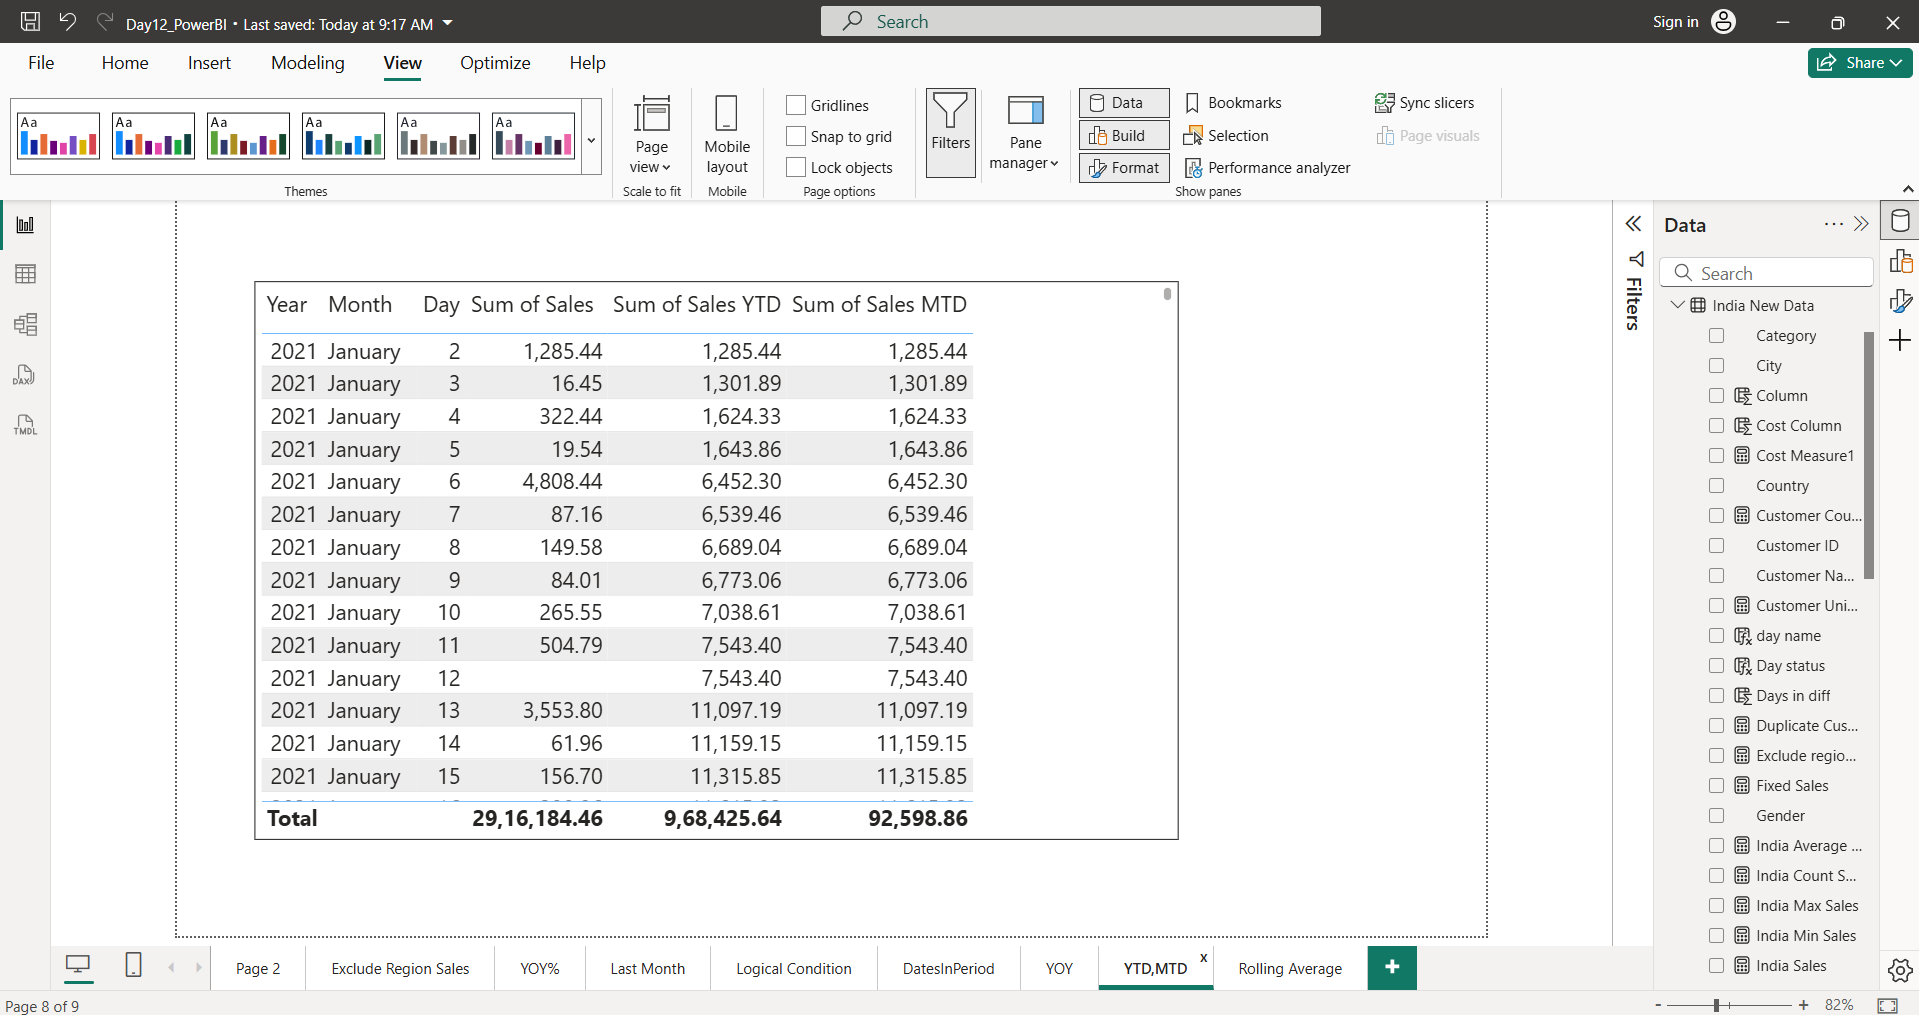

The dashboard page shown, as its layout file describes it:
{"tool":"powerbi","page":{"name":"YTD,MTD","canvas":[1280,720],"ordinal":7},"visuals":[{"type":"tableEx","fields":{"Values":["India New Data.Order Date.Variation.Date Hierarchy.Year","India New Data.Order Date.Variation.Date Hierarchy.Month","India New Data.Order Date.Variation.Date Hierarchy.Day","Sum(India New Data.Sales)","Country list.Sum of Sales YTD","Country list.Sum of Sales MTD"]},"box":[76,80,904,546],"z":0}]}

Visuals, with their boxes on the page's 1280x720 design canvas (x1, y1, x2, y2). These are canvas units, not pixel positions in the 1919x1015 screenshot, which may show the page scaled, cropped or inside an application window:
tableEx - India New Data.Order Date.Variation.Date Hierarchy.Year x India New Data.Order Date.Variation.Date Hierarchy.Month: box(76, 80, 980, 626)
